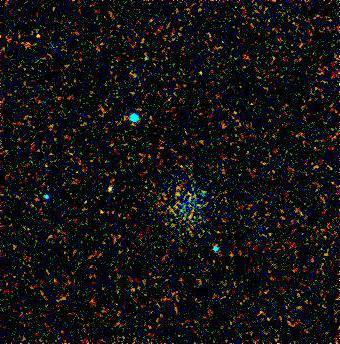star: (185, 62, 215, 92)
